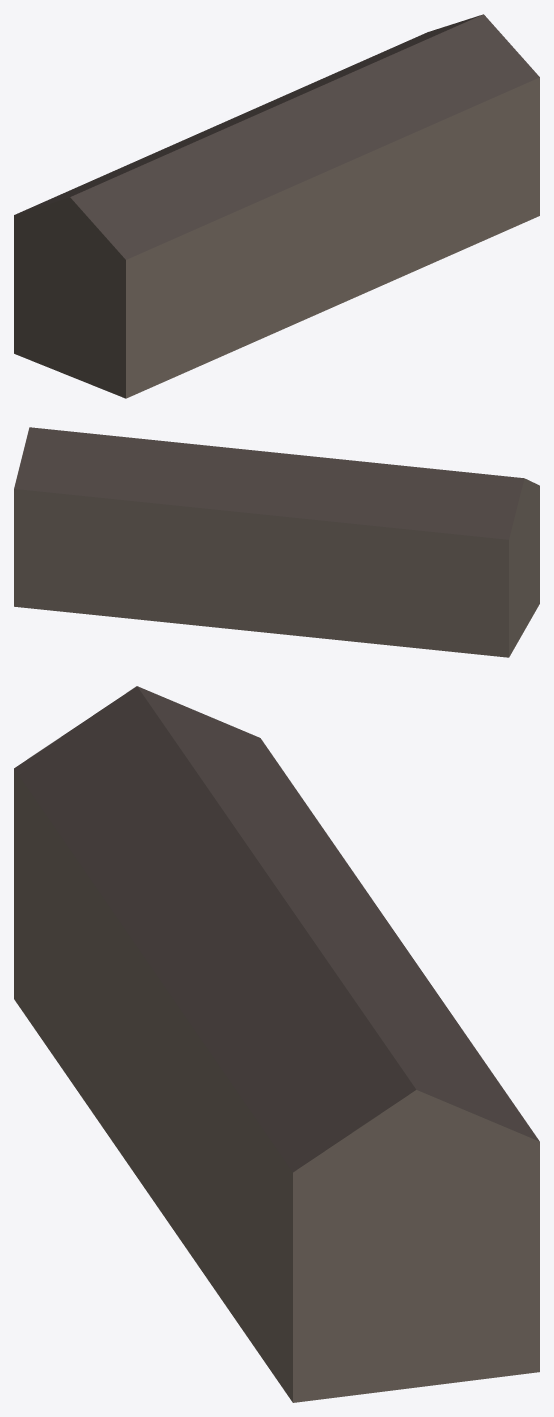
3 renders of one model, top to bottom at view 1: azimuth 30°, elevation 25°; view 2: azimuth 150°, elevation 25°; view 3: azimuth 270°, elevation 25°, orthographic. The views are drawn at different scales.
Visible parts, largest first — view 1: HP-w1076065850; view 2: HP-w1076065850; view 3: HP-w1076065850.
Part boxes in pixels (x1,y1,x2,y2): HP-w1076065850: (14, 14, 539, 398); HP-w1076065850: (14, 427, 539, 657); HP-w1076065850: (14, 686, 539, 1402).
Bounding box in the file's own units: 24.28 × 7.76 × 12.42.
